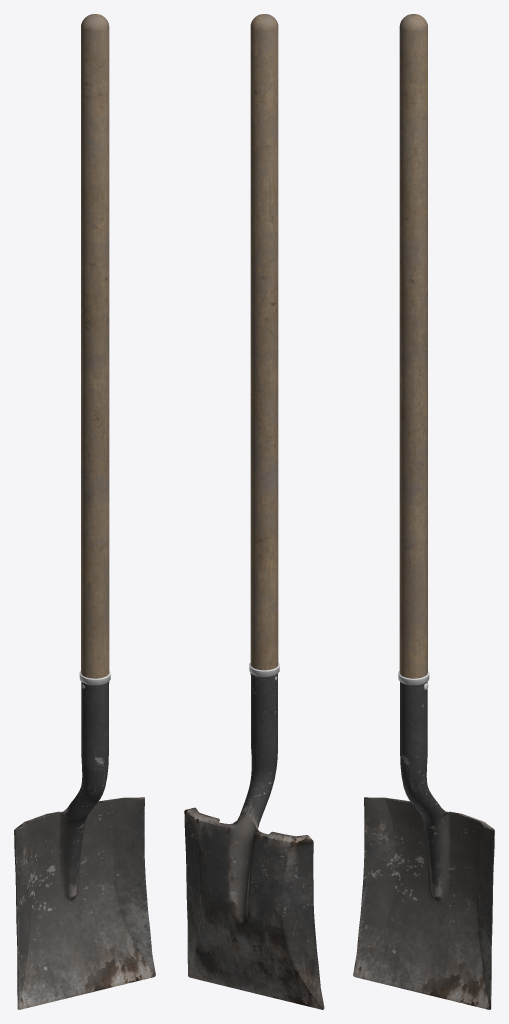
Rendered from MOD_Shovel.fbx.
The picture shows the model from 3 angles, left to right: view 1: azimuth 30°, elevation 25°; view 2: azimuth 150°, elevation 25°; view 3: azimuth 330°, elevation 25°; orthographic projection.
Visible parts, largest first — view 1: MOD_Shovel; view 2: MOD_Shovel; view 3: MOD_Shovel.
Part boxes in pixels (<box>): MOD_Shovel: <box>14,14,155,1009</box>; MOD_Shovel: <box>184,14,324,1009</box>; MOD_Shovel: <box>353,14,494,1009</box>.
Bounding box in the file's own units: 22.52 × 154 × 9.44.
1 material, 1 textured.
